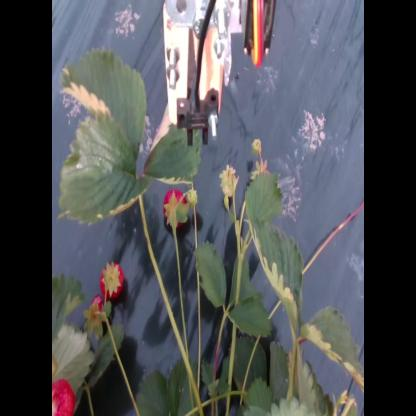ripe: (160, 185, 189, 229), (89, 292, 112, 335), (52, 374, 75, 414), (101, 264, 124, 295)
unripe: (219, 166, 236, 197)
